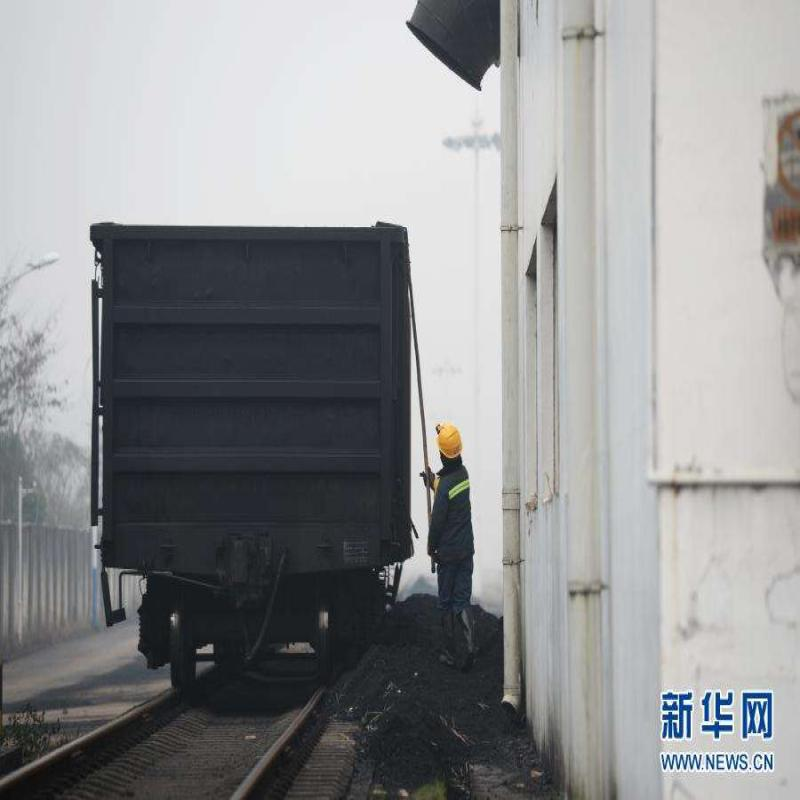train: (85, 203, 411, 696)
